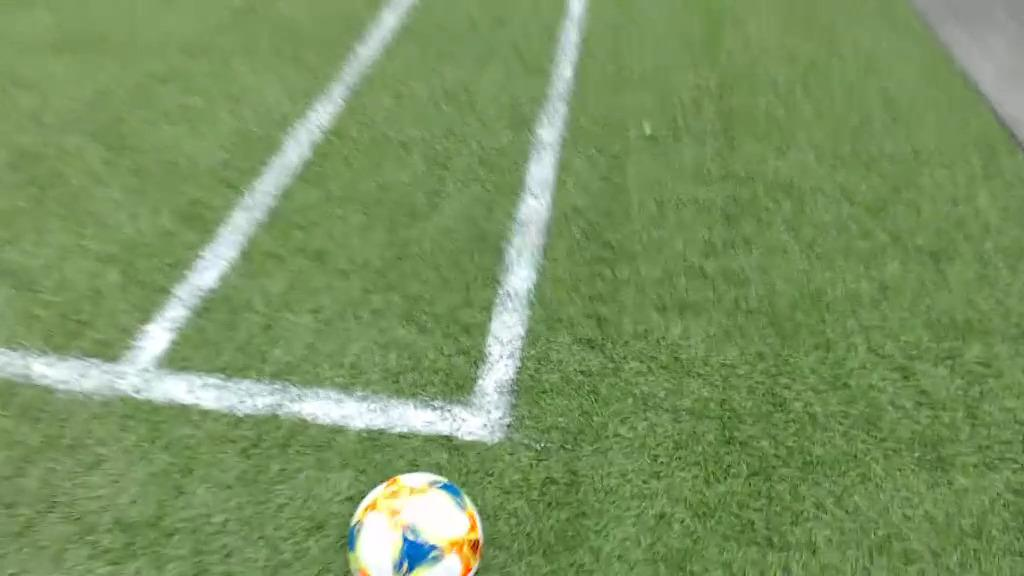ball: (347, 471, 482, 576)
